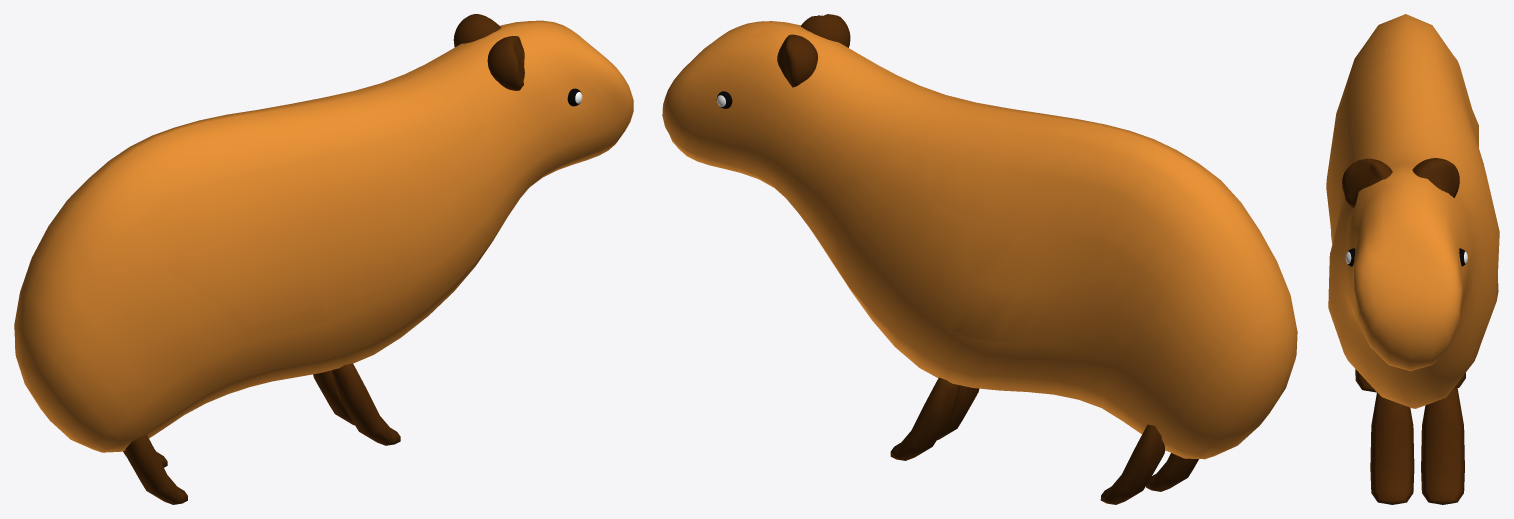
The model's file is capybara.fbx.
3 views of the same model, side by side, from view 1: azimuth 30°, elevation 25°; view 2: azimuth 150°, elevation 25°; view 3: azimuth 270°, elevation 25° (orthographic). The views are drawn at different scales.
Visible parts, largest first — view 1: Plane, Plane.003, Plane.001, Sphere.001, Sphere, Plane.004; view 2: Plane, Plane.004, Plane.002, Sphere, Plane.001, Sphere.001, Plane.003; view 3: Plane, Plane.004, Plane.003, Sphere.001, Sphere, Plane.001.
Boxes of the visible parts, bbox=[...] form: Plane: bbox=[14, 20, 633, 452]; Plane.003: bbox=[331, 363, 400, 445]; Plane.001: bbox=[124, 434, 187, 504]; Sphere.001: bbox=[487, 36, 524, 90]; Sphere: bbox=[453, 14, 501, 47]; Plane.004: bbox=[313, 370, 354, 425]; Plane: bbox=[662, 21, 1297, 459]; Plane.004: bbox=[890, 377, 960, 460]; Plane.002: bbox=[1100, 424, 1165, 504]; Sphere: bbox=[777, 34, 817, 87]; Plane.001: bbox=[1146, 453, 1198, 491]; Sphere.001: bbox=[801, 14, 850, 47]; Plane.003: bbox=[937, 385, 979, 440]; Plane: bbox=[1326, 14, 1499, 408]; Plane.004: bbox=[1421, 386, 1464, 504]; Plane.003: bbox=[1370, 392, 1414, 504]; Sphere.001: bbox=[1342, 158, 1392, 208]; Sphere: bbox=[1412, 158, 1459, 197]; Plane.001: bbox=[1355, 369, 1376, 392].
Bounding box in the file's own units: 323 × 196 × 76.97.
